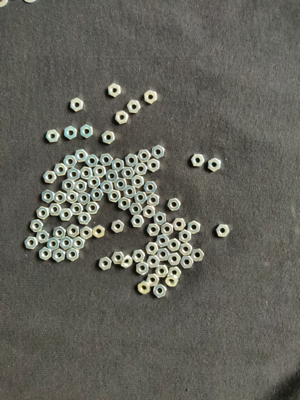nut: (70, 97, 85, 113), (114, 110, 129, 125), (45, 129, 60, 144), (108, 83, 122, 99), (190, 154, 206, 168), (144, 90, 158, 105), (127, 99, 141, 114), (101, 131, 116, 145), (80, 124, 94, 139), (64, 126, 78, 141), (151, 145, 165, 160), (208, 158, 222, 173), (125, 153, 139, 168), (121, 166, 136, 180), (74, 149, 89, 163), (187, 220, 201, 235), (129, 202, 143, 217), (108, 189, 122, 204), (90, 188, 105, 202), (52, 226, 67, 240), (24, 236, 38, 251), (38, 247, 53, 261), (137, 149, 151, 163), (147, 159, 161, 173), (134, 162, 148, 176), (167, 198, 181, 212), (131, 175, 145, 189), (85, 154, 99, 168), (93, 165, 107, 179), (105, 169, 119, 183), (172, 218, 186, 232), (147, 223, 161, 237), (131, 215, 145, 229), (100, 180, 114, 194), (87, 175, 101, 189), (63, 155, 77, 169), (54, 163, 68, 177), (111, 220, 125, 234), (41, 189, 55, 203), (36, 206, 50, 220), (66, 224, 80, 238), (36, 230, 50, 244), (66, 247, 80, 261), (216, 224, 230, 238), (180, 255, 194, 269), (131, 249, 145, 263), (146, 273, 160, 287), (77, 212, 92, 225), (144, 181, 158, 194), (99, 154, 113, 167), (123, 186, 137, 199), (118, 197, 131, 211), (86, 202, 100, 215), (78, 192, 91, 206), (70, 203, 84, 216), (60, 208, 73, 222), (43, 171, 57, 184), (49, 203, 62, 217), (30, 220, 44, 233), (93, 225, 106, 239), (80, 226, 93, 240), (47, 237, 60, 251), (60, 236, 73, 250), (191, 249, 205, 262), (168, 252, 181, 266), (168, 238, 181, 252), (156, 234, 169, 248), (145, 242, 158, 256), (147, 255, 161, 268), (111, 252, 125, 265), (99, 257, 112, 271), (155, 265, 169, 278), (165, 275, 179, 288), (154, 284, 167, 298), (112, 159, 125, 172), (114, 178, 127, 191), (134, 191, 147, 204), (147, 194, 160, 207), (143, 206, 156, 219), (154, 212, 167, 225), (179, 230, 192, 243), (161, 223, 174, 236), (80, 167, 93, 180), (67, 168, 80, 181), (75, 180, 88, 193), (62, 179, 75, 192), (66, 191, 79, 204), (157, 248, 170, 261), (136, 262, 149, 275), (138, 281, 151, 294), (168, 267, 181, 280), (53, 249, 65, 263), (73, 236, 85, 250), (121, 255, 133, 269), (54, 191, 66, 204), (180, 243, 192, 256)
